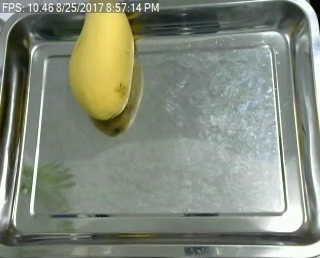Mango: (63, 0, 140, 124)
